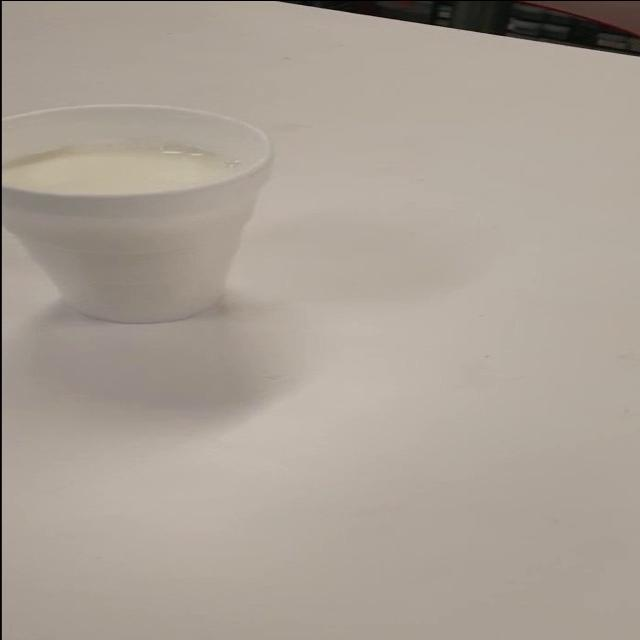Milk: (0, 92, 309, 321)
